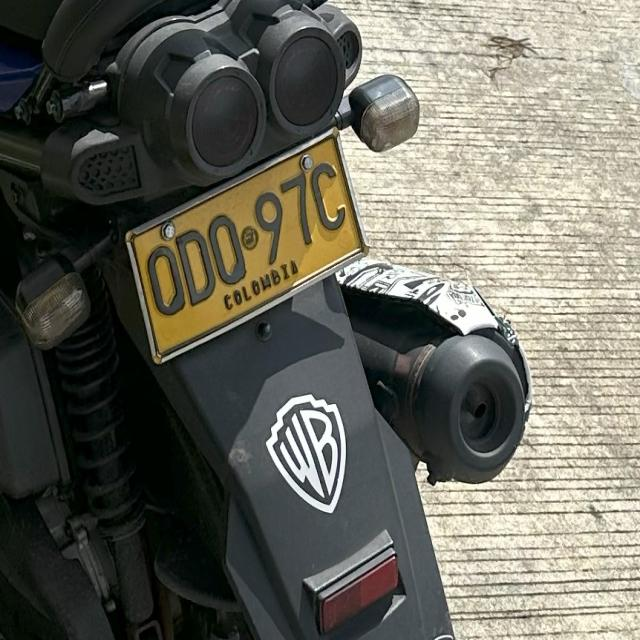number plate: (125, 129, 365, 362)
